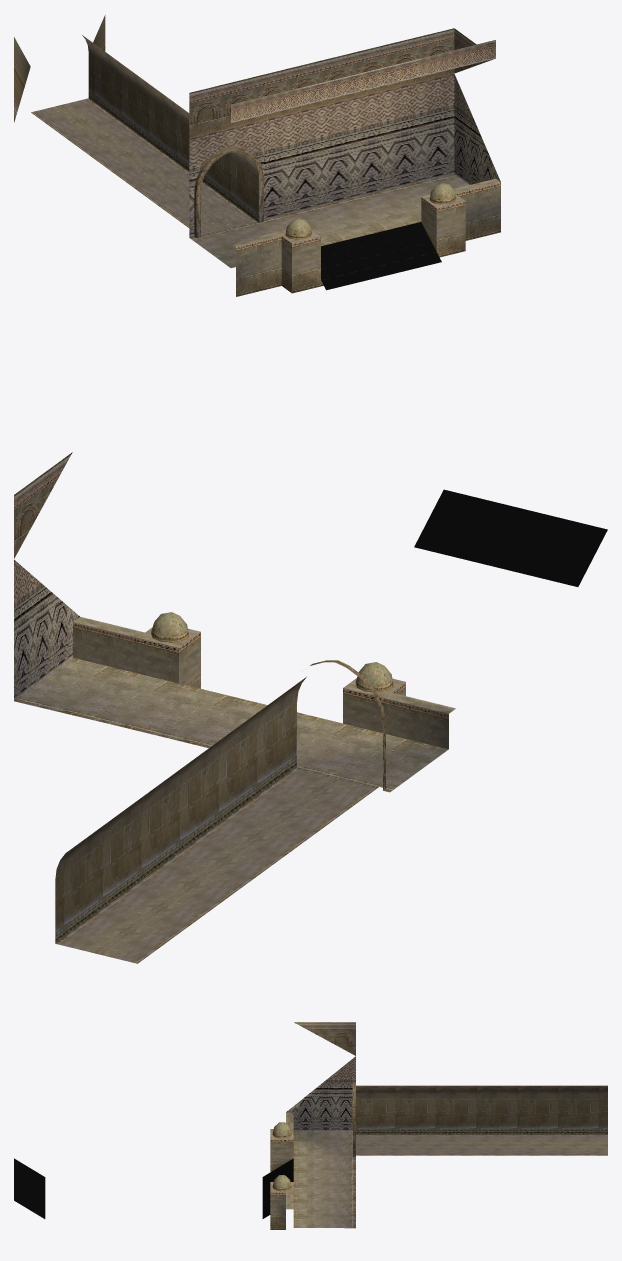
File: M7_CourtYard_Small01.glb
3 views of the same model, one above another, from view 1: azimuth 30°, elevation 25°; view 2: azimuth 150°, elevation 25°; view 3: azimuth 270°, elevation 25° (orthographic). The views are drawn at different scales.
Visible parts, largest first — view 1: M7_COURTYARD_SMALL01; view 2: M7_COURTYARD_SMALL01; view 3: M7_COURTYARD_SMALL01.
Part boxes in pixels (bbox=[...]): M7_COURTYARD_SMALL01: bbox=[14, 15, 500, 296]; M7_COURTYARD_SMALL01: bbox=[14, 452, 607, 963]; M7_COURTYARD_SMALL01: bbox=[14, 1022, 607, 1229].
Size of the model in its own units: 11.39 by 7.56 by 28.74.
Materials: 9 (8 with a texture image).
